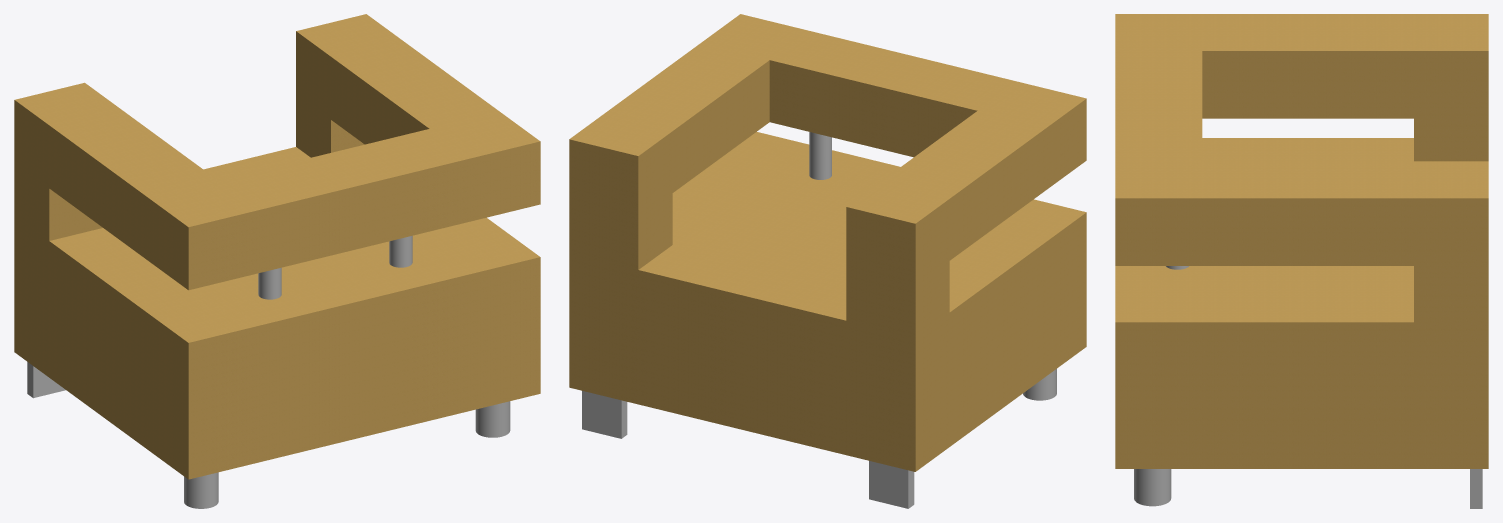
3 renders of one model, left to right at view 1: azimuth 30°, elevation 25°; view 2: azimuth 150°, elevation 25°; view 3: azimuth 270°, elevation 25°, orthographic. The views are drawn at different scales.
Visible parts, largest first — view 1: SketchUp_ID16, SketchUp_ID35, SketchUp_ID41, SketchUp_ID63, SketchUp_ID10, SketchUp_ID2; view 2: SketchUp_ID16, SketchUp_ID29, SketchUp_ID63, SketchUp_ID2, SketchUp_ID41; view 3: SketchUp_ID16, SketchUp_ID35, SketchUp_ID29.
Part boxes in pixels (x1,y1,x2,y2): SketchUp_ID16: [14, 14, 540, 479]; SketchUp_ID35: [475, 401, 510, 437]; SketchUp_ID41: [184, 472, 218, 508]; SketchUp_ID63: [27, 362, 65, 398]; SketchUp_ID10: [258, 267, 281, 299]; SketchUp_ID2: [389, 235, 412, 267]; SketchUp_ID16: [569, 14, 1086, 471]; SketchUp_ID29: [582, 391, 627, 438]; SketchUp_ID63: [869, 461, 914, 508]; SketchUp_ID2: [809, 132, 831, 179]; SketchUp_ID41: [1023, 369, 1056, 400]; SketchUp_ID16: [1115, 14, 1488, 468]; SketchUp_ID35: [1134, 469, 1171, 506]; SketchUp_ID29: [1470, 469, 1482, 508].
Bounding box in the file's own units: 0.6492 × 0.519 × 0.5561.
4 materials, 1 textured.
